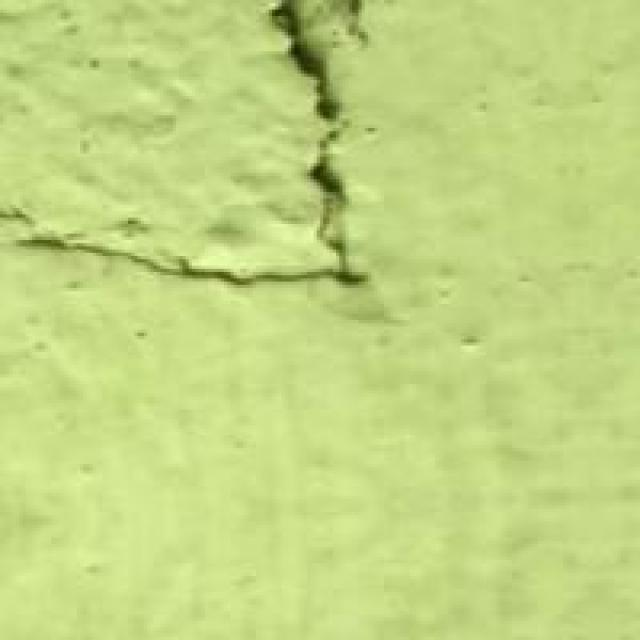Crack: (0, 0, 400, 352)
